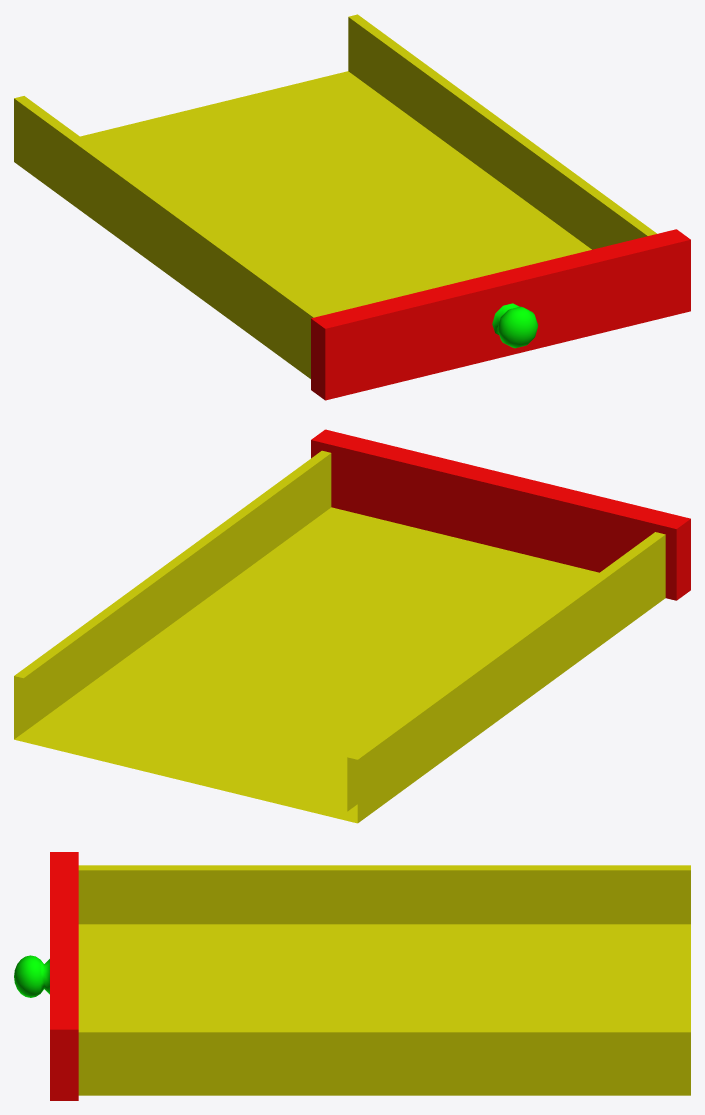
Rendered from Abbie - LaboratoryTableDrawer.fbx.
The picture shows the model from 3 angles, top to bottom: view 1: azimuth 30°, elevation 25°; view 2: azimuth 150°, elevation 25°; view 3: azimuth 270°, elevation 25°; orthographic projection.
Parts seen in each view (by area): view 1: drawerFront2; view 2: drawerFront2; view 3: drawerFront2.
Boxes of the visible parts, left/top/right/bottom form: drawerFront2: left=14, top=14, right=690, bottom=400; drawerFront2: left=14, top=429, right=690, bottom=823; drawerFront2: left=14, top=852, right=690, bottom=1100.
Bounding box in the file's own units: 0.5876 × 0.11 × 0.9474.
